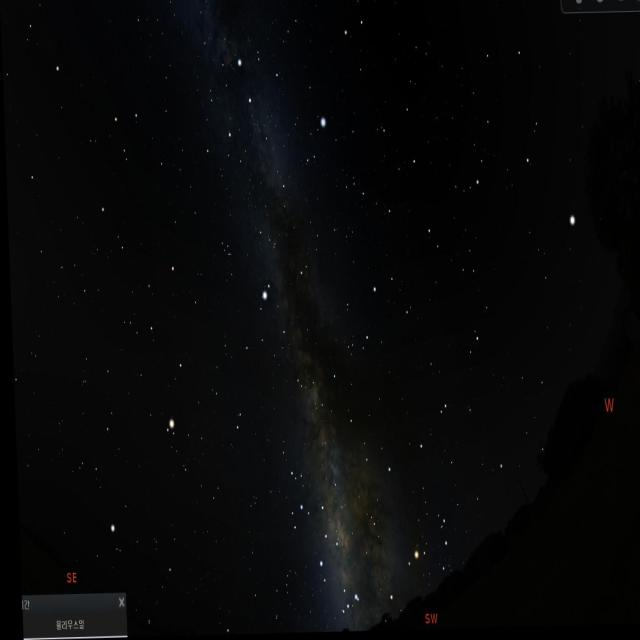aquila: (247, 273, 321, 409)
bootes: (455, 26, 588, 266)
cygnus: (219, 52, 290, 210)
lyra: (295, 114, 332, 180)
sagittarius: (278, 463, 336, 588)
scorpius: (328, 479, 450, 626)
